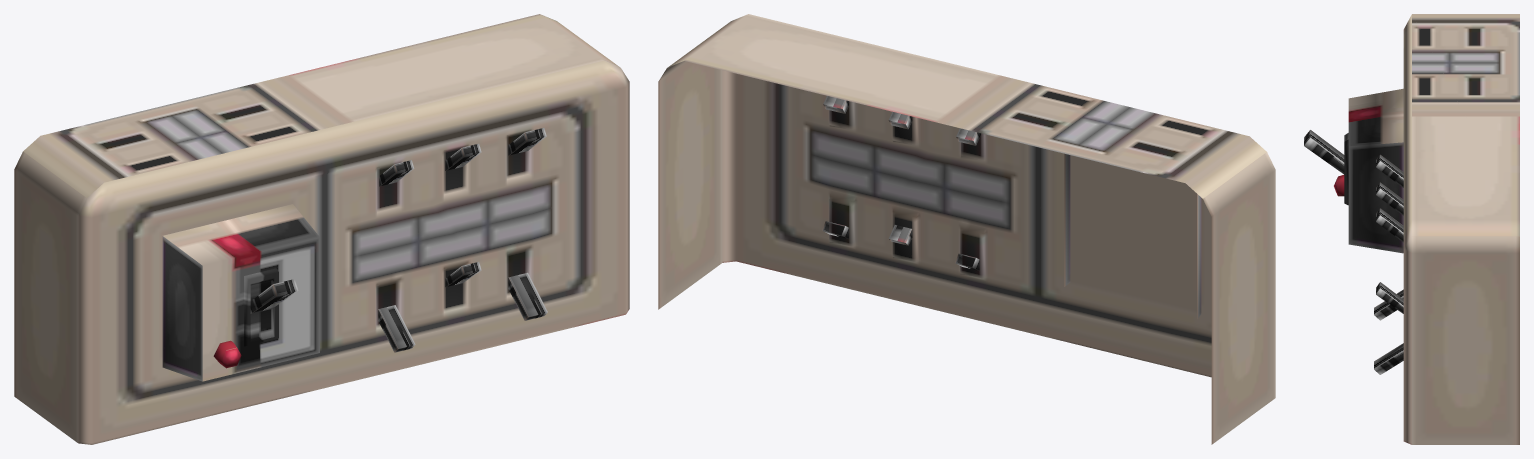
Rendered from int_oth_breaker.dae.
The picture shows the model from 3 angles, left to right: view 1: azimuth 30°, elevation 25°; view 2: azimuth 150°, elevation 25°; view 3: azimuth 270°, elevation 25°; orthographic projection. The views are drawn at different scales.
Parts seen in each view (by area): view 1: int_oth_breaker; view 2: int_oth_breaker; view 3: int_oth_breaker.
Part boxes in pixels (x1=…): int_oth_breaker: x1=14, y1=14, x2=629, y2=444; int_oth_breaker: x1=658, y1=14, x2=1275, y2=444; int_oth_breaker: x1=1304, y1=14, x2=1519, y2=444.
Size of the model in its own units: 30.09 by 13.27 by 12.08.
Materials: 1 (1 with a texture image).
